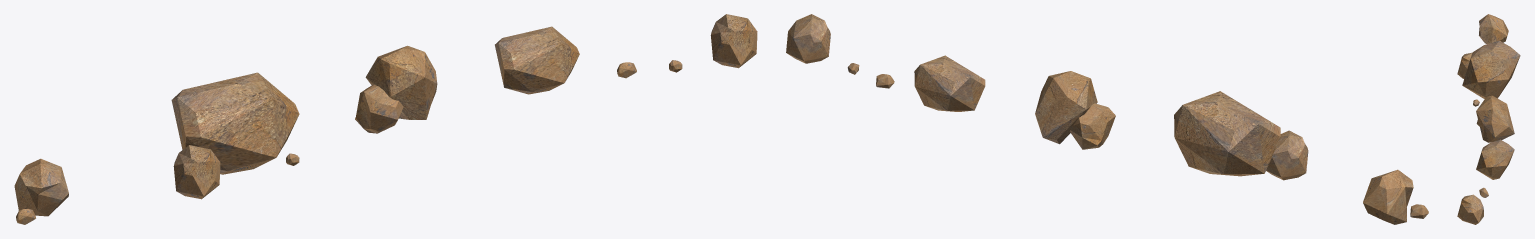
File: pietre_desert (5).fbx
The picture shows the model from 3 angles, left to right: view 1: azimuth 30°, elevation 25°; view 2: azimuth 150°, elevation 25°; view 3: azimuth 270°, elevation 25°; orthographic projection. The views are drawn at different scales.
Visible parts, largest first — view 1: eva, eva.001, eva.002, Eeva3, eva2.001, eva2.004, eva2.002; view 2: eva, eva.002, eva.001, Eeva3, eva2.004, eva2.001, eva2.002; view 3: eva, eva.002, eva.001, Eeva3, eva2.004, eva2.001, eva.004, eva2.
Part boxes in pixels (<box>): eva: <box>171,72,299,174</box>; eva.001: <box>495,26,579,94</box>; eva.002: <box>365,45,437,119</box>; Eeva3: <box>14,158,68,216</box>; eva2.001: <box>173,145,220,199</box>; eva2.004: <box>710,14,757,68</box>; eva2.002: <box>355,85,403,133</box>; eva: <box>1174,91,1280,176</box>; eva.002: <box>1035,71,1097,144</box>; eva.001: <box>914,55,985,111</box>; Eeva3: <box>1363,169,1413,224</box>; eva2.004: <box>786,14,830,63</box>; eva2.001: <box>1266,130,1308,180</box>; eva2.002: <box>1070,103,1115,149</box>; eva: <box>1462,40,1520,98</box>; eva.002: <box>1476,95,1514,142</box>; eva.001: <box>1476,139,1514,179</box>; Eeva3: <box>1479,14,1508,43</box>; eva2.004: <box>1457,194,1483,224</box>; eva2.001: <box>1457,52,1472,78</box>; eva.004: <box>1479,187,1488,197</box>; eva2: <box>1473,99,1479,106</box>.
Bounding box in the file's own units: 2911 × 326 × 403.
Materials: 1 (1 with a texture image).
